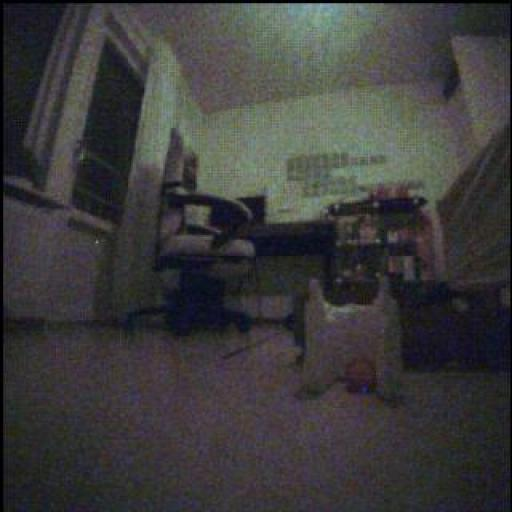basket: (343, 352, 381, 398)
